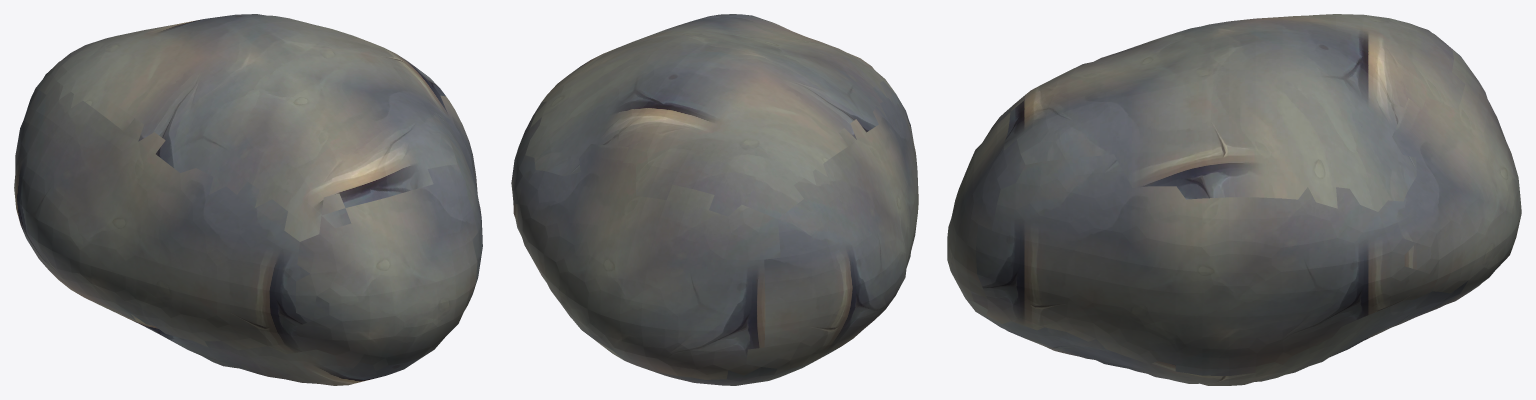
Rendered from boulder1_s16024.gltf.
The picture shows the model from 3 angles, left to right: view 1: azimuth 30°, elevation 25°; view 2: azimuth 150°, elevation 25°; view 3: azimuth 270°, elevation 25°; orthographic projection. The views are drawn at different scales.
Parts seen in each view (by area): view 1: boulder1_s16024_stone_LOD0; view 2: boulder1_s16024_stone_LOD0; view 3: boulder1_s16024_stone_LOD0.
Boxes of the visible parts, x1,y1,x2,y2 form: boulder1_s16024_stone_LOD0: [14, 14, 482, 385]; boulder1_s16024_stone_LOD0: [511, 14, 918, 385]; boulder1_s16024_stone_LOD0: [947, 14, 1521, 385].
Size of what is drawn, in the model's own units: 2.22 by 1.6 by 2.71.
1 material, 1 textured.
